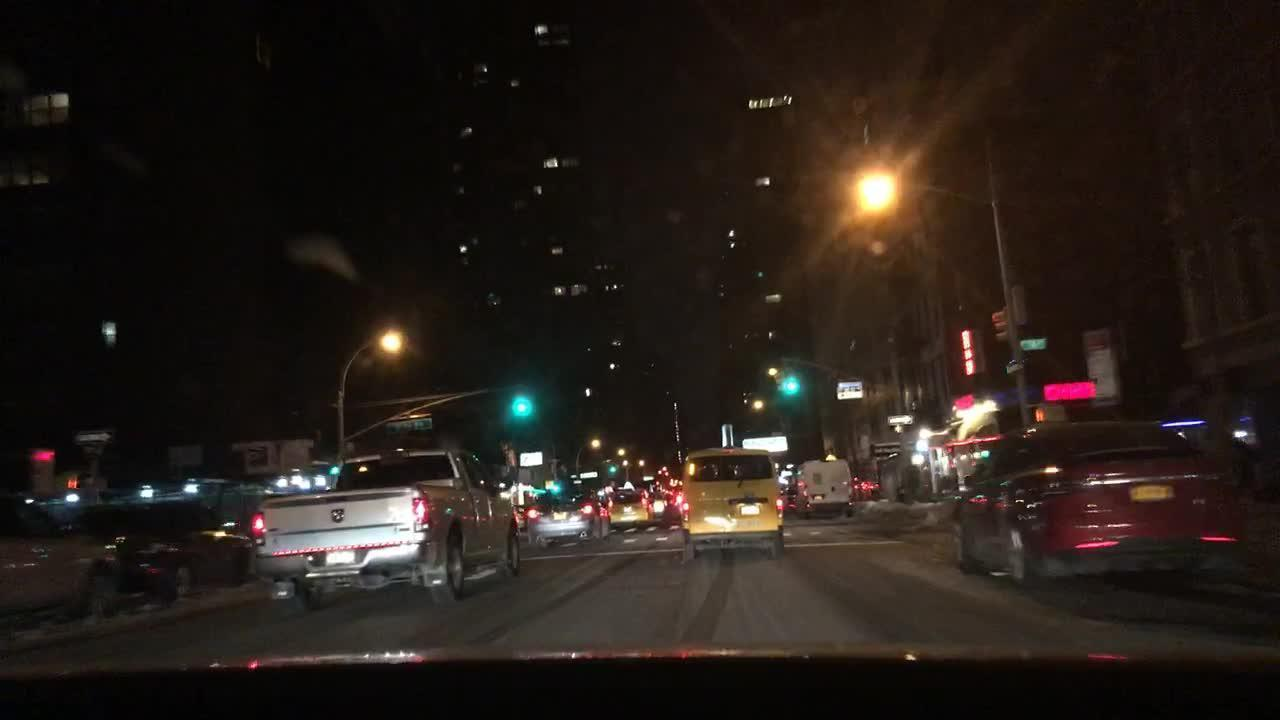ram: (329, 507, 347, 524)
